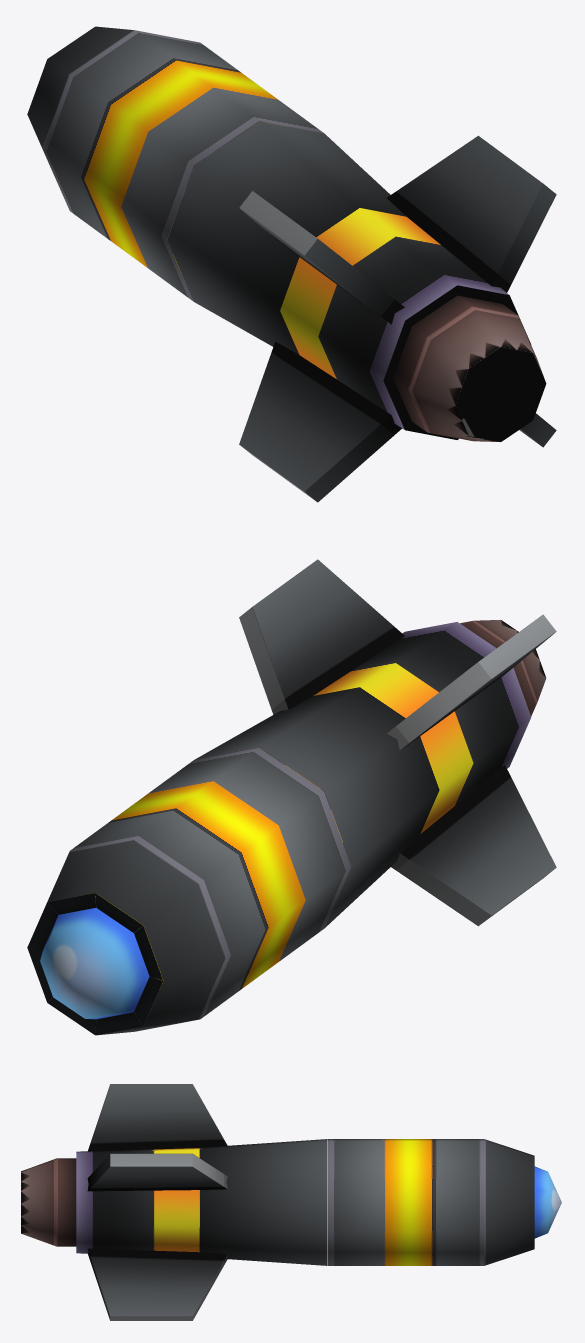
File: missile_02.FBX
The picture shows the model from 3 angles, top to bottom: view 1: azimuth 30°, elevation 25°; view 2: azimuth 150°, elevation 25°; view 3: azimuth 270°, elevation 25°; orthographic projection. The views are drawn at different scales.
Parts seen in each view (by area): view 1: Cylinder009; view 2: Cylinder009; view 3: Cylinder009.
Part boxes in pixels (left/top/right/bottom): Cylinder009: left=27, top=26, right=556, bottom=502; Cylinder009: left=27, top=559, right=556, bottom=1035; Cylinder009: left=21, top=1084, right=561, bottom=1320.
Size of the model in its own units: 11.59 by 11.59 by 32.06.
